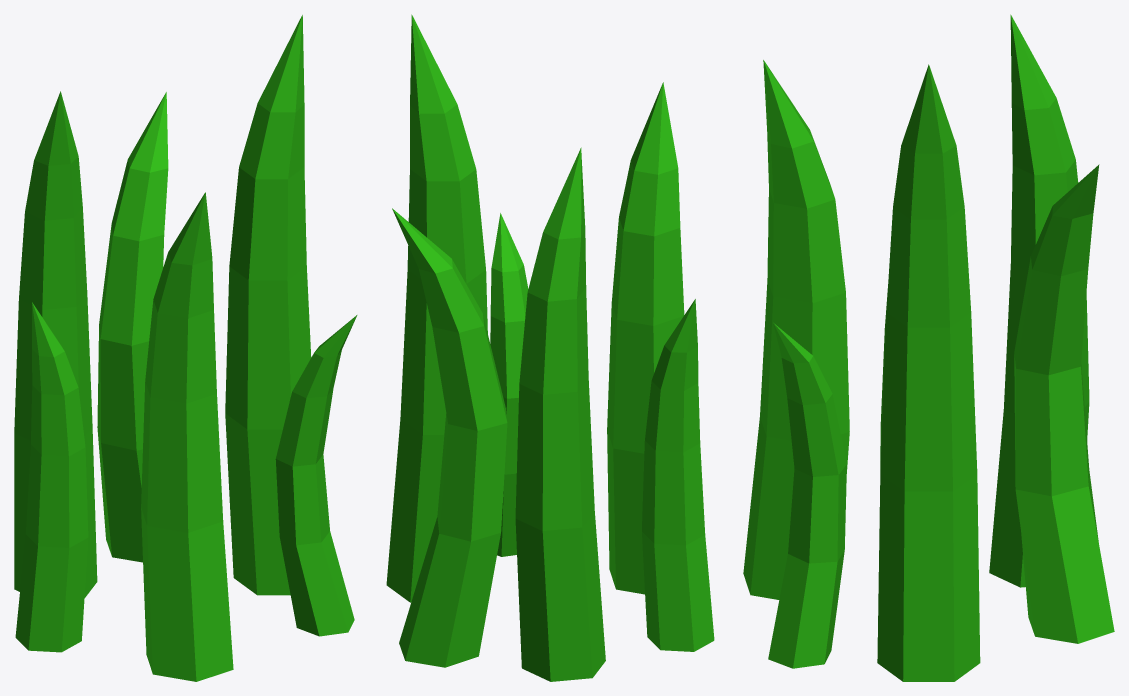
File: grass.fbx
3 renders of one model, left to right at view 1: azimuth 30°, elevation 25°; view 2: azimuth 150°, elevation 25°; view 3: azimuth 270°, elevation 25°, orthographic. The views are drawn at different scales.
Parts seen in each view (by area): view 1: Cone, Cone.002, Cone.003, Cone.001, Cone.004, Cone.005; view 2: Cone.001, Cone.003, Cone, Cone.002, Cone.004, Cone.005; view 3: Cone, Cone.003, Cone.002, Cone.005, Cone.001.
Part boxes in pixels (<box>): Cone: <box>225,15,311,595</box>; Cone.002: <box>141,192,233,681</box>; Cone.003: <box>97,92,168,562</box>; Cone.001: <box>14,91,97,597</box>; Cone.004: <box>15,302,88,652</box>; Cone.005: <box>275,315,357,636</box>; Cone.001: <box>515,147,605,681</box>; Cone.003: <box>392,208,507,667</box>; Cone: <box>386,14,487,602</box>; Cone.002: <box>607,82,684,594</box>; Cone.004: <box>642,299,714,651</box>; Cone.005: <box>490,213,528,556</box>; Cone: <box>877,64,980,681</box>; Cone.003: <box>1014,164,1114,643</box>; Cone.002: <box>743,60,849,599</box>; Cone.005: <box>768,322,846,668</box>; Cone.001: <box>989,14,1089,587</box>.
Size of the model in its own units: 736 by 1313 by 722.
